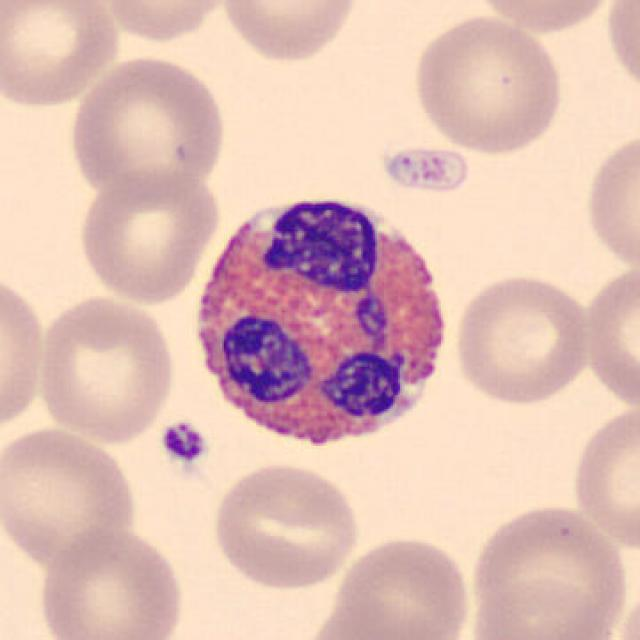Eosinophil: (182, 173, 462, 472)
Platelets: (379, 143, 471, 196), (156, 418, 210, 465)
RBC: (64, 51, 231, 199), (462, 499, 630, 638), (409, 12, 567, 157), (34, 291, 180, 446), (206, 458, 363, 592), (75, 166, 222, 307), (0, 423, 140, 571), (450, 268, 594, 407), (35, 523, 186, 640), (325, 530, 474, 640), (0, 0, 124, 111), (567, 400, 640, 556), (466, 573, 615, 640), (217, 0, 363, 65), (580, 261, 638, 414), (0, 266, 50, 443), (582, 125, 638, 275), (297, 594, 455, 640), (100, 0, 234, 46), (467, 0, 620, 35), (378, 143, 474, 197), (602, 0, 640, 100), (610, 580, 638, 640)
